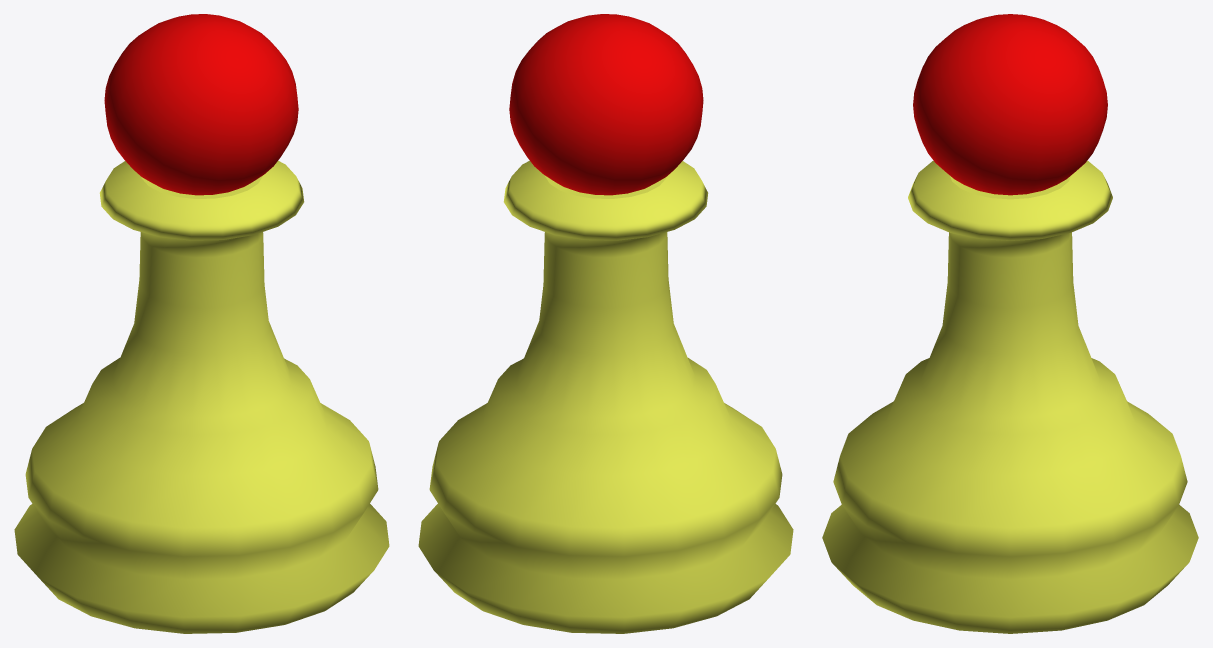
Rendered from chess_piece_weird.fbx.
3 renders of one model, left to right at view 1: azimuth 30°, elevation 25°; view 2: azimuth 150°, elevation 25°; view 3: azimuth 270°, elevation 25°, orthographic.
Parts seen in each view (by area): view 1: pCylinder2; view 2: pCylinder2; view 3: pCylinder2.
Part boxes in pixels (x1,y1,x2,y2): pCylinder2: (14, 14, 389, 633); pCylinder2: (418, 14, 793, 633); pCylinder2: (822, 14, 1198, 633).
Bounding box in the file's own units: 1.68 × 2.66 × 1.68.
